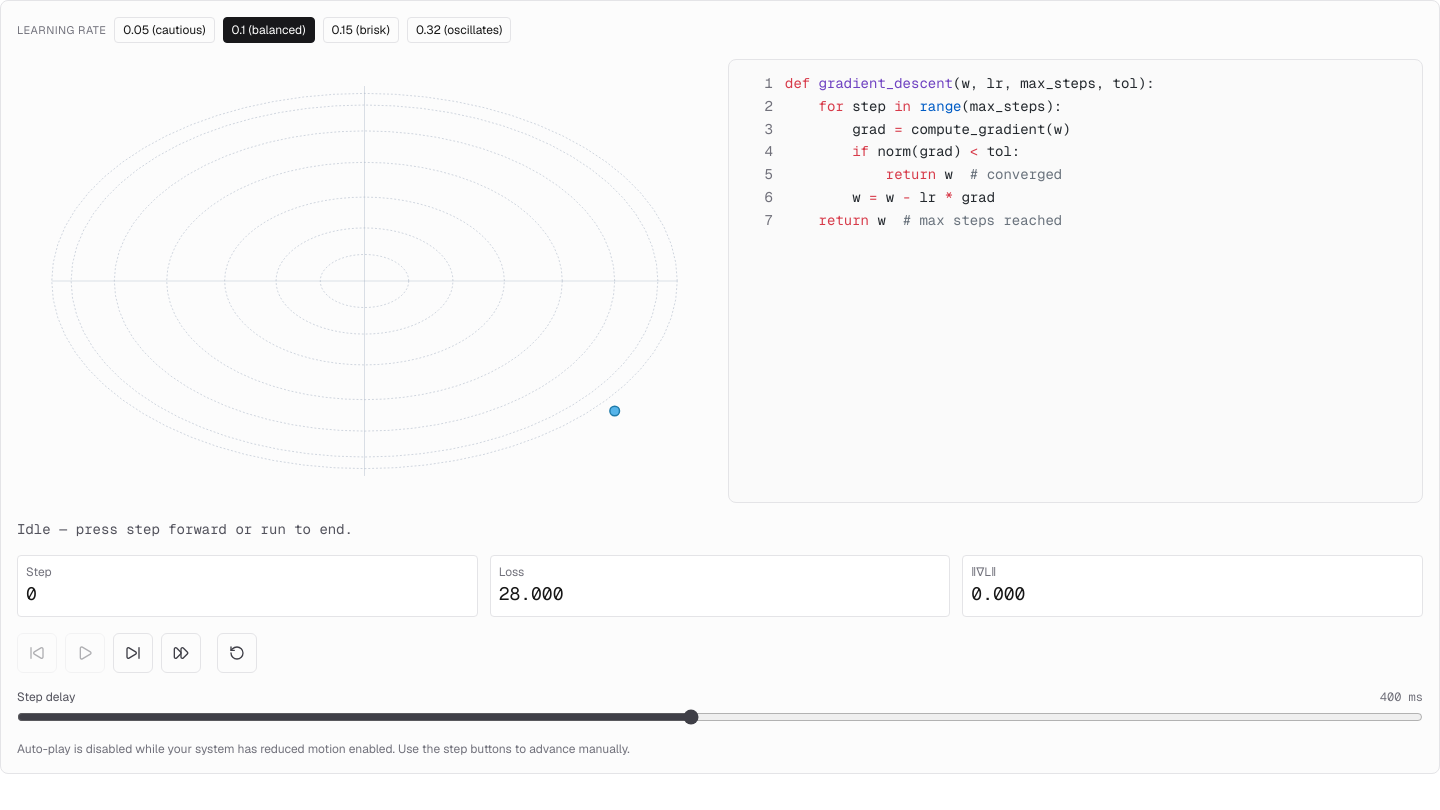
it: GradientDescentViz › Run-to-end under reduced motion snaps to the converged step
Click the button named "Run to end".
click(181, 653)  # box [161,633,201,673]
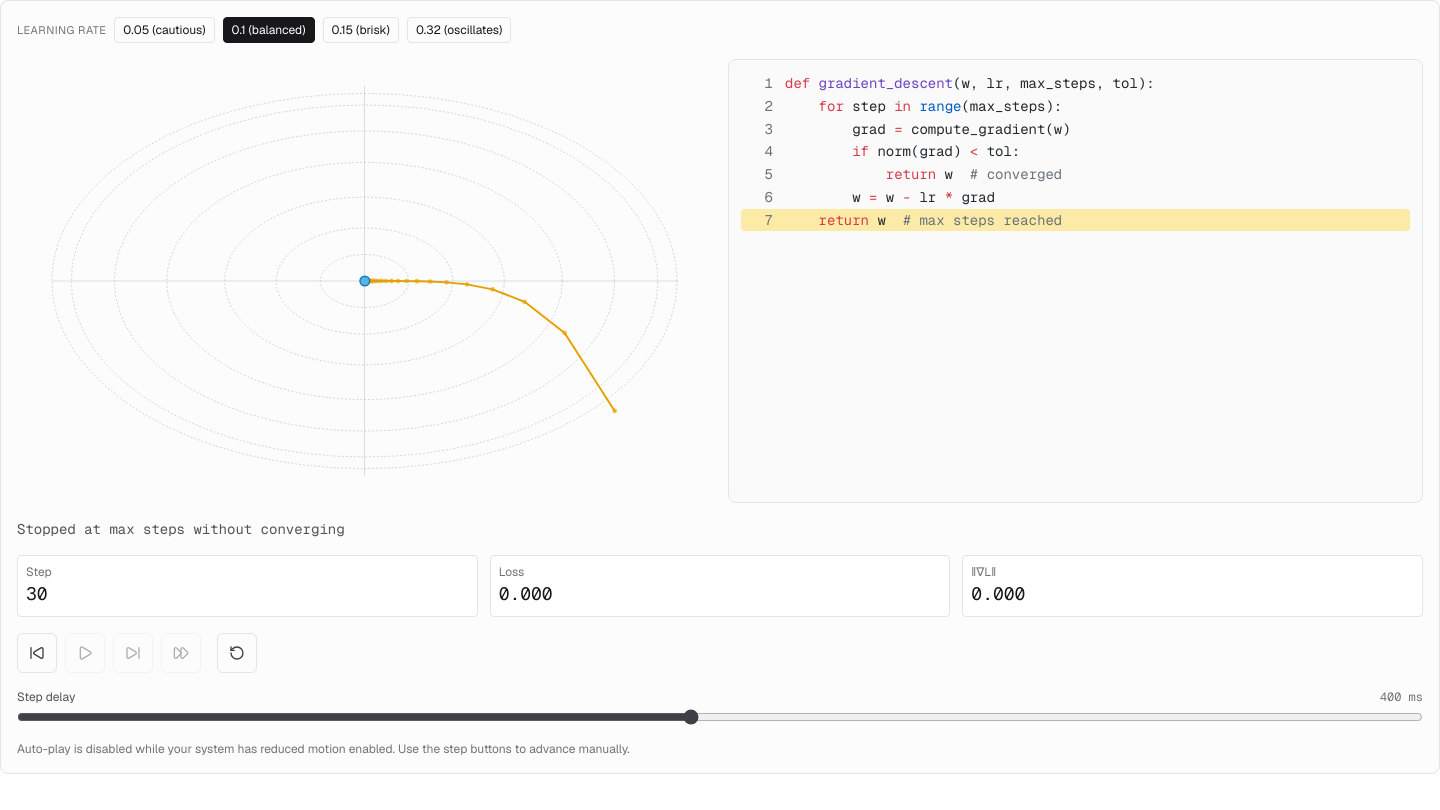
Result: the text "Stopped at max steps without converging" is shown at [17,520,345,538]
